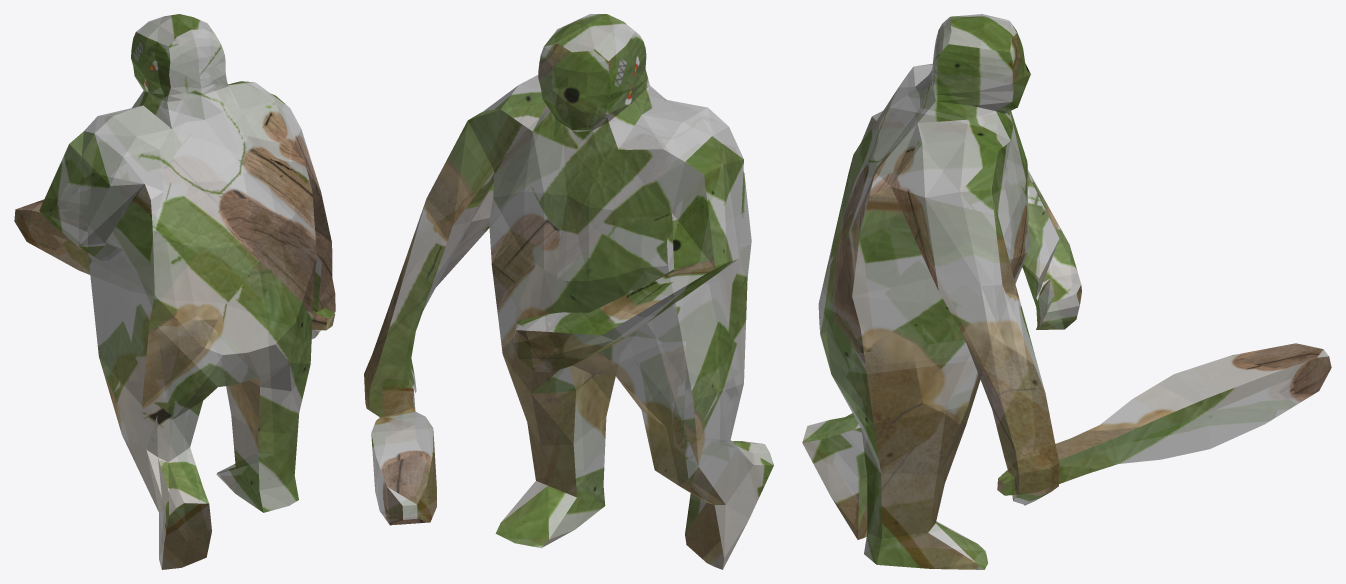
Rendered from Enemigo221.obj.
3 views of the same model, side by side, from view 1: azimuth 30°, elevation 25°; view 2: azimuth 150°, elevation 25°; view 3: azimuth 270°, elevation 25° (orthographic). The views are drawn at different scales.
Parts seen in each view (by area): view 1: Cube; view 2: Cube; view 3: Cube.
Boxes of the visible parts, x1,y1,x2,y2 form: Cube: (14,14,335,569); Cube: (364,14,773,569); Cube: (802,14,1331,569).
Bounding box in the file's own units: 1.76 × 2.81 × 2.47.
